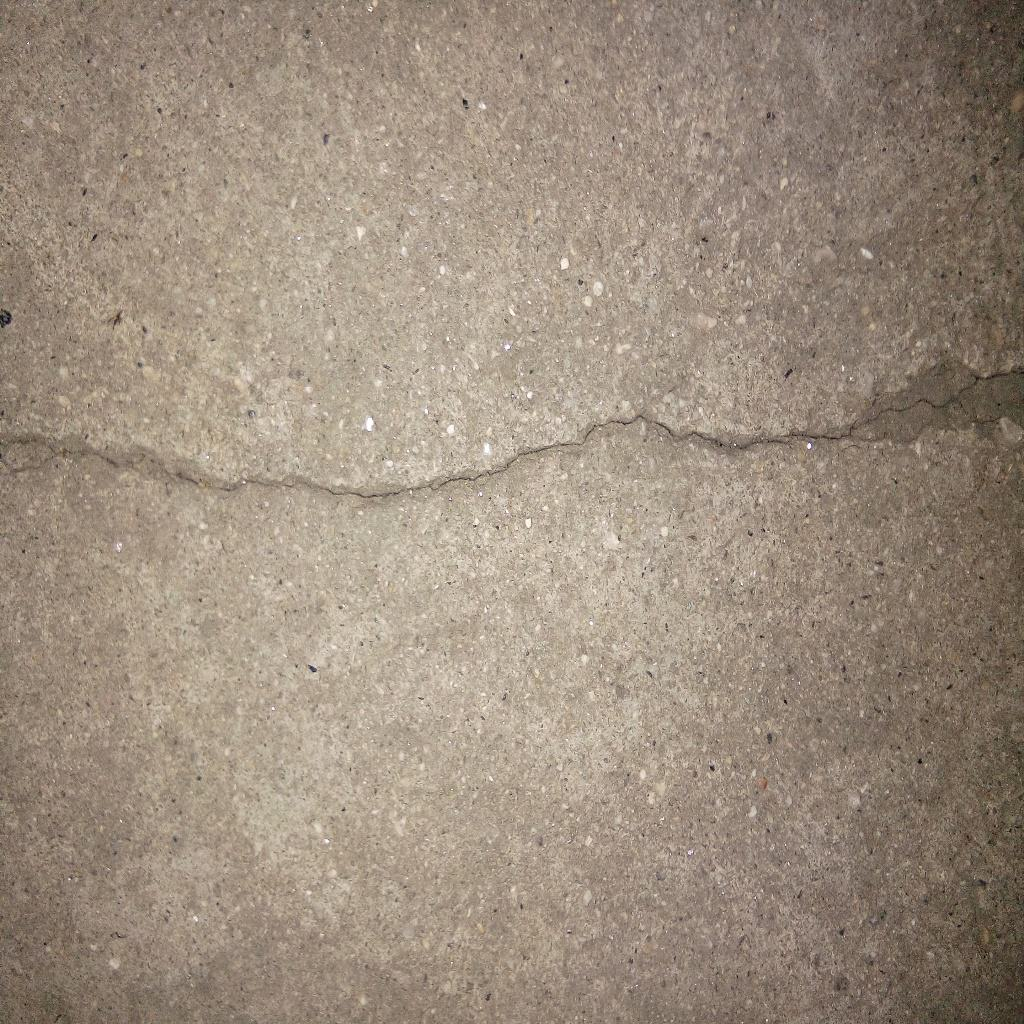Crack: (1, 355, 1024, 503)
